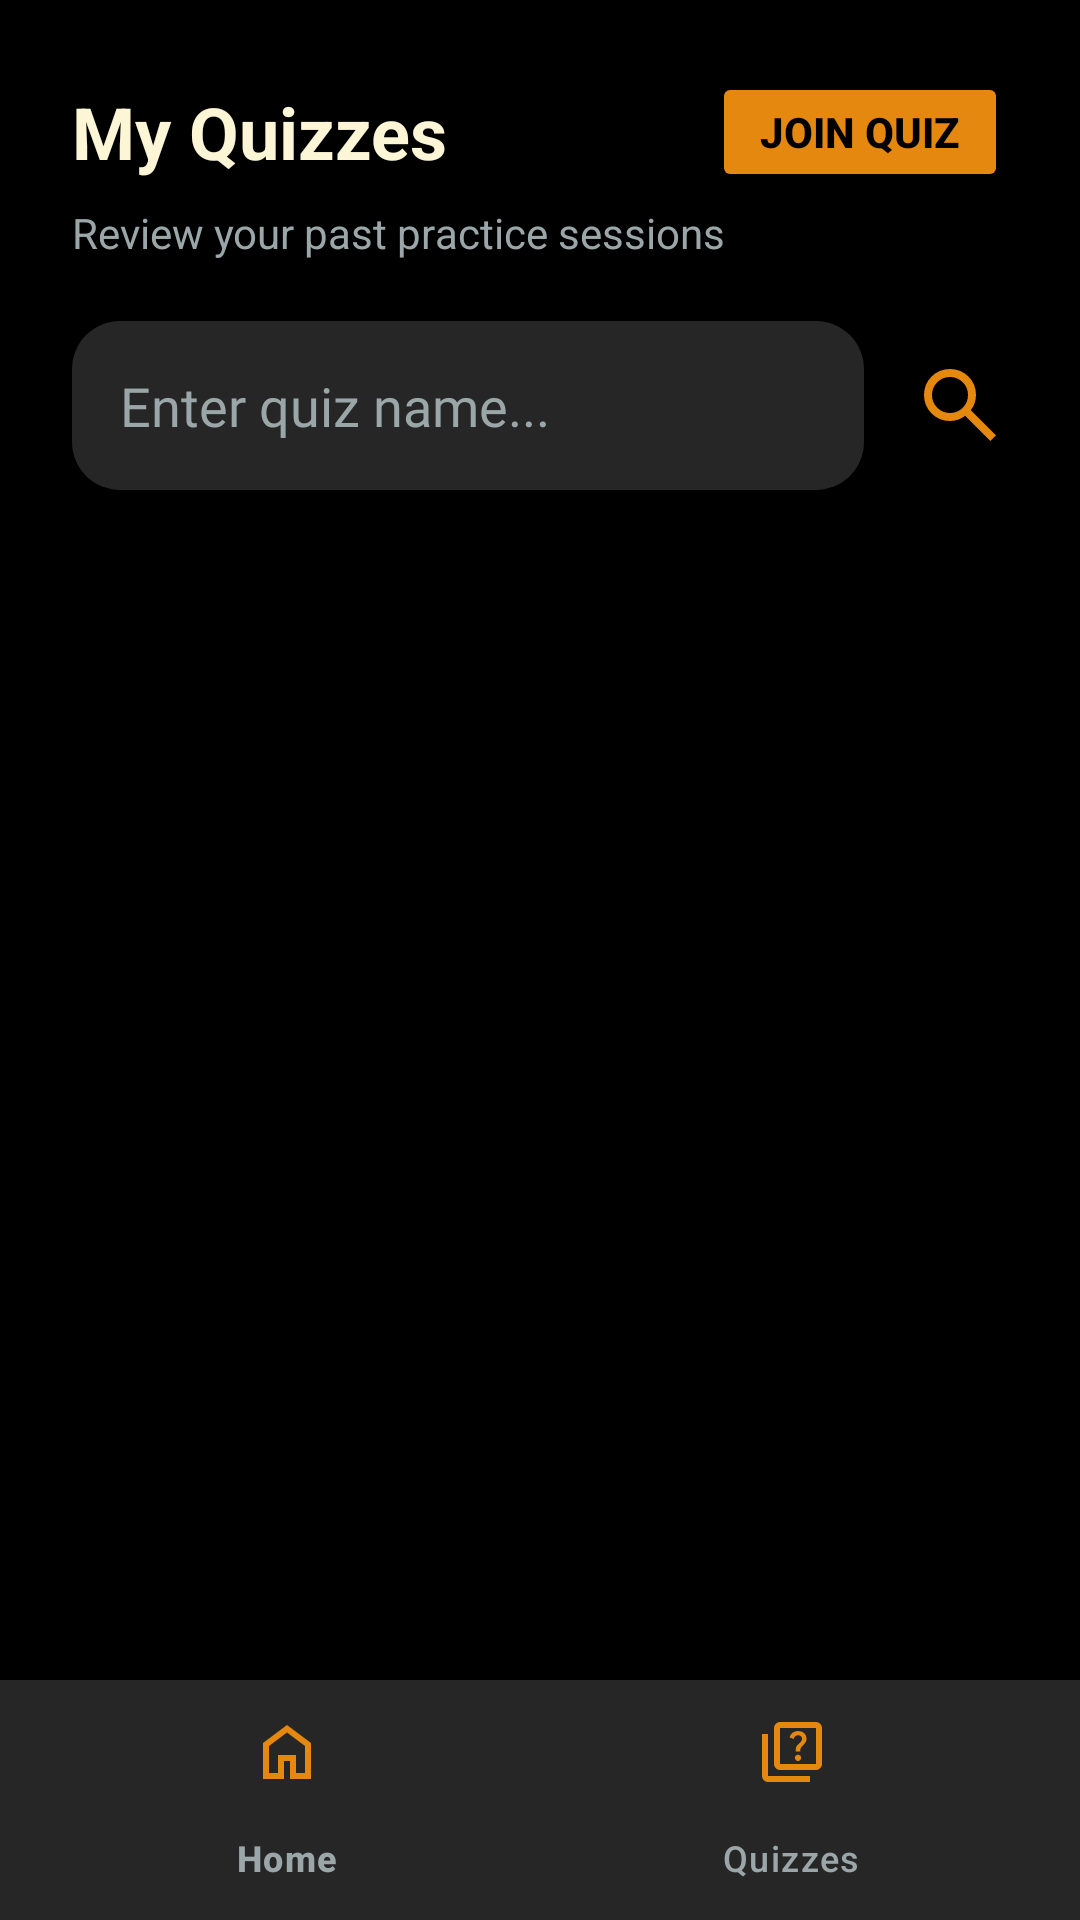

Icons on this 1080×1920 Android screen, each with the point to tap as (x,y):
find: (960,405)
